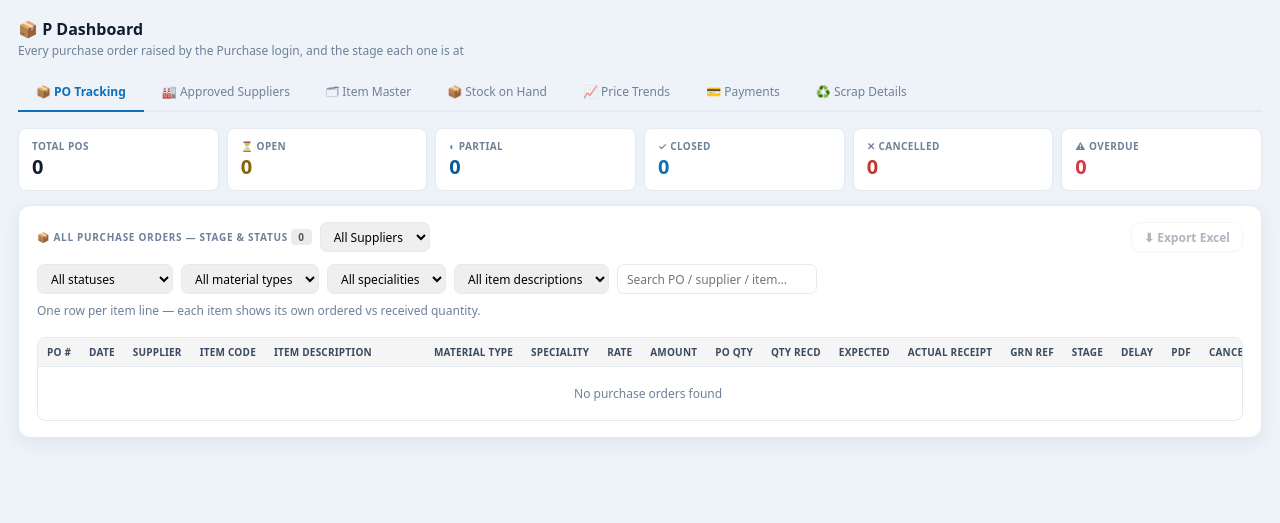
Test: P Dashboard — Scrap tab board and trend chart › shows the empty note when a filter matches no price points
Click the text "♻️ Scrap Details": (861, 92) [816,83,907,100]
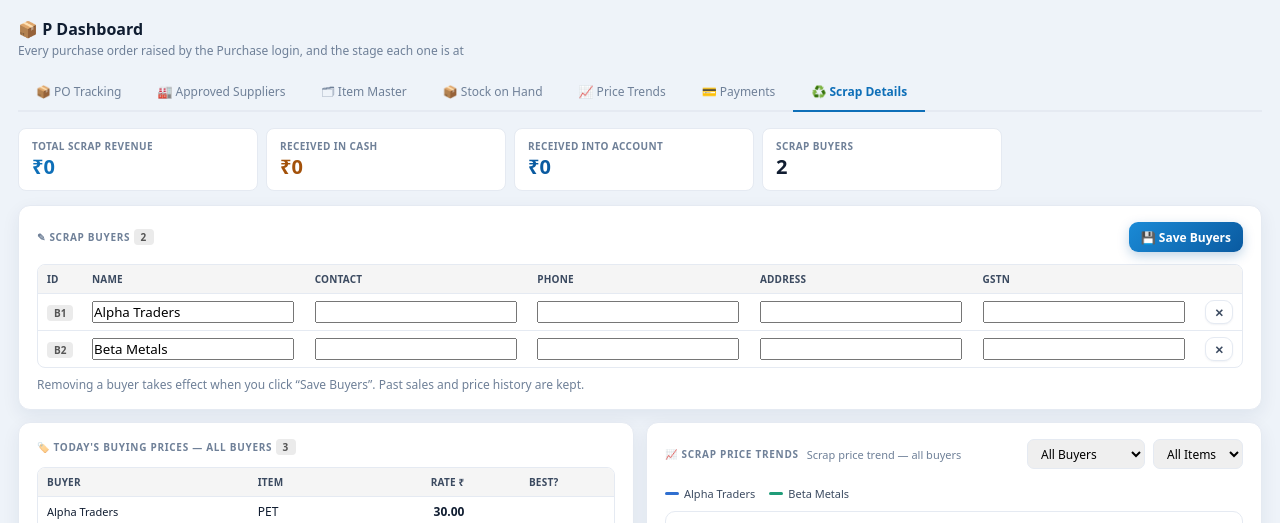
Select "Beta Metals" in the dropdown named "Filter by buyer": (1086, 454) [1027,439,1145,469]
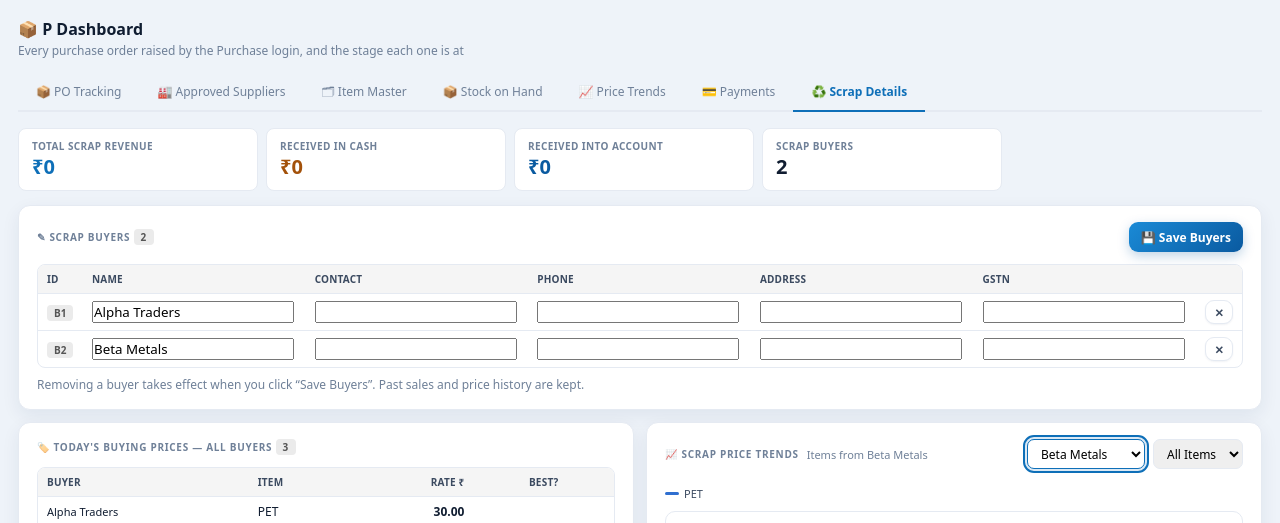
Select "ALU" in the dropdown named "Filter by item": (1198, 454) [1153,439,1243,469]
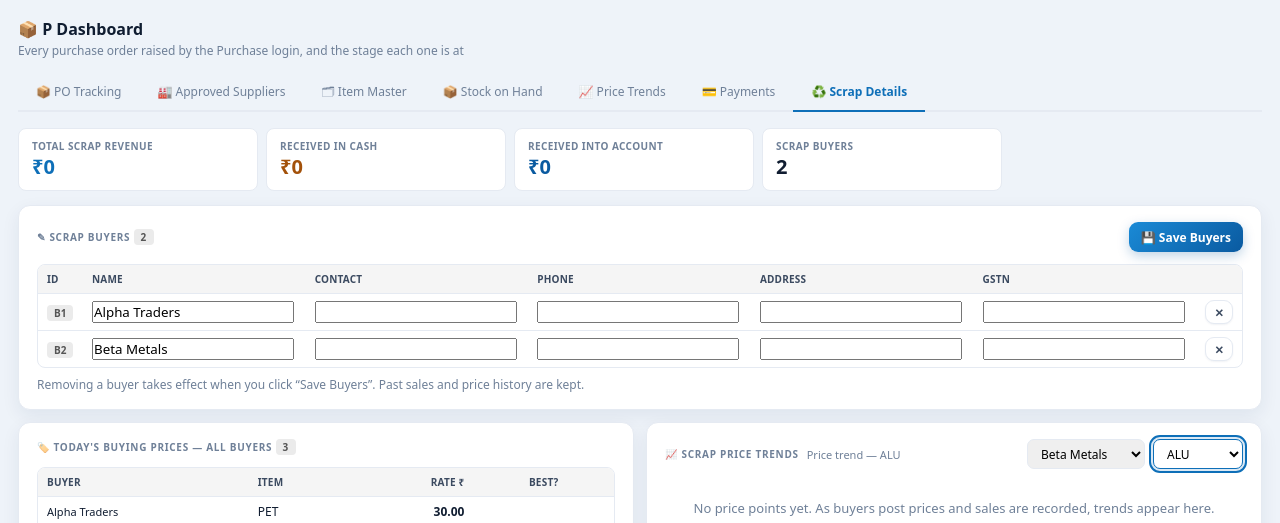
Result: the text "No price points yet" is shown at [694,499,1214,517]
